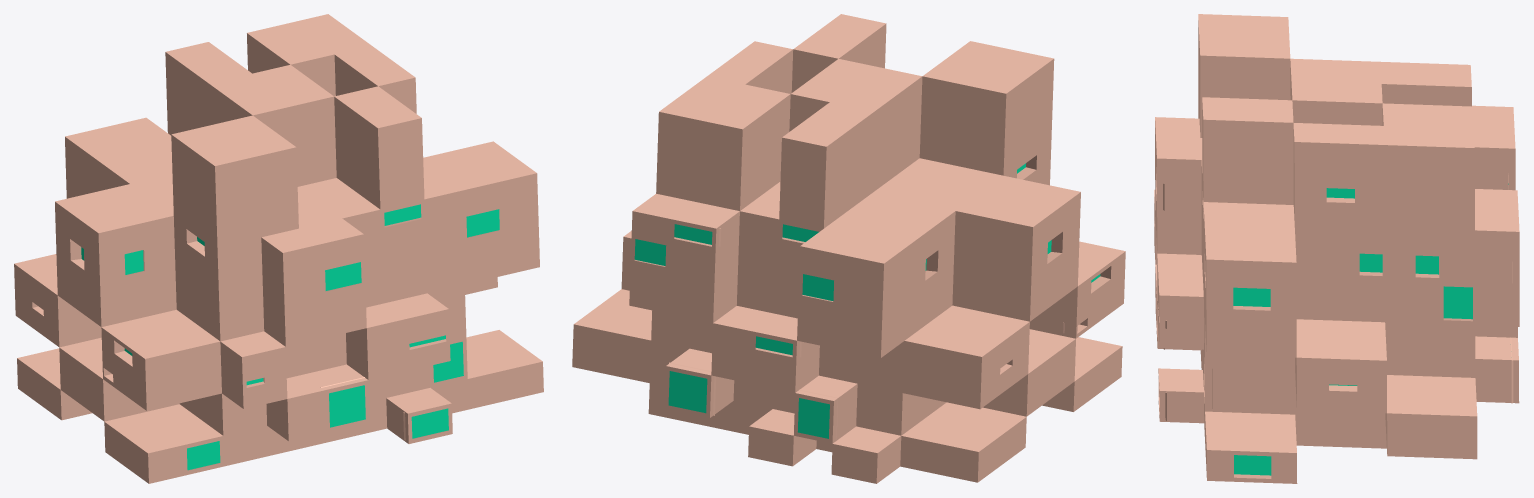
Rendered from MOD_Habitat67.FBX.
The picture shows the model from 3 angles, left to right: view 1: azimuth 30°, elevation 25°; view 2: azimuth 150°, elevation 25°; view 3: azimuth 270°, elevation 25°; orthographic projection.
Parts seen in each view (by area): view 1: Habitat 67; view 2: Habitat 67; view 3: Habitat 67.
Boxes of the visible parts, left/top/right/bottom form: Habitat 67: left=14, top=14, right=543, bottom=483; Habitat 67: left=572, top=14, right=1125, bottom=483; Habitat 67: left=1154, top=14, right=1519, bottom=483.
Bounding box in the file's own units: 51.38 × 37.74 × 40.22.
